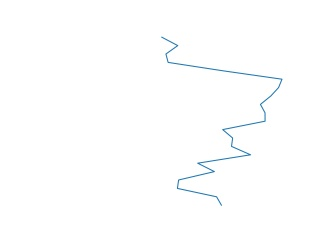floodPlain: (160, 36, 285, 209)
